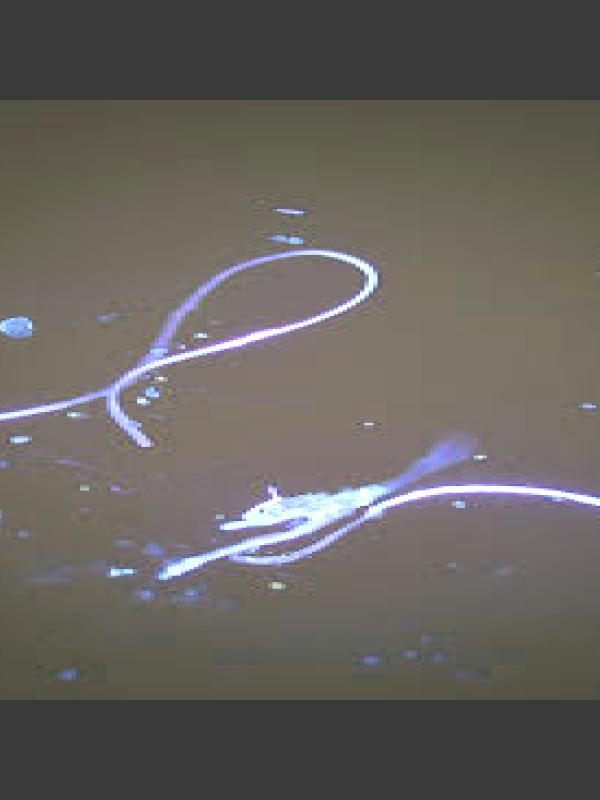microplastic: (0, 234, 391, 450), (175, 466, 600, 580)
